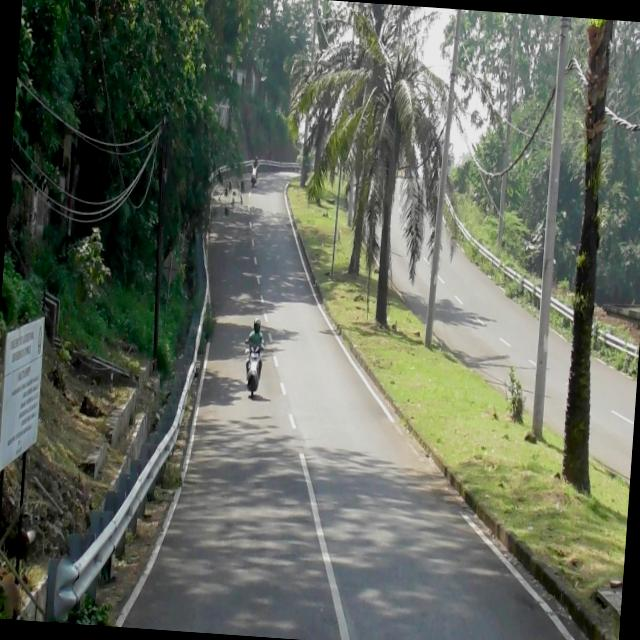motorcycle: (242, 344, 262, 398), (250, 166, 260, 187)
person: (243, 316, 266, 354), (252, 155, 258, 167)
rider_region: (240, 312, 269, 403), (246, 147, 262, 196)
